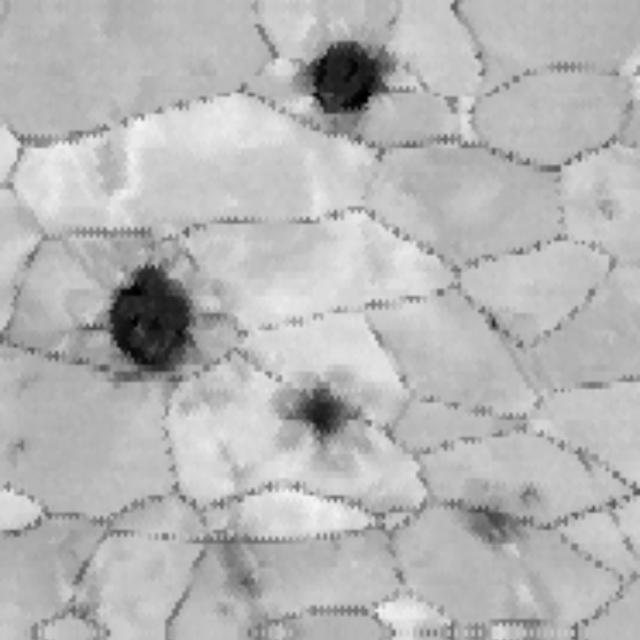good_void: (106, 252, 203, 378), (304, 40, 407, 126), (293, 377, 361, 441), (453, 487, 519, 551), (213, 533, 259, 618), (3, 436, 35, 474), (518, 488, 540, 510)
